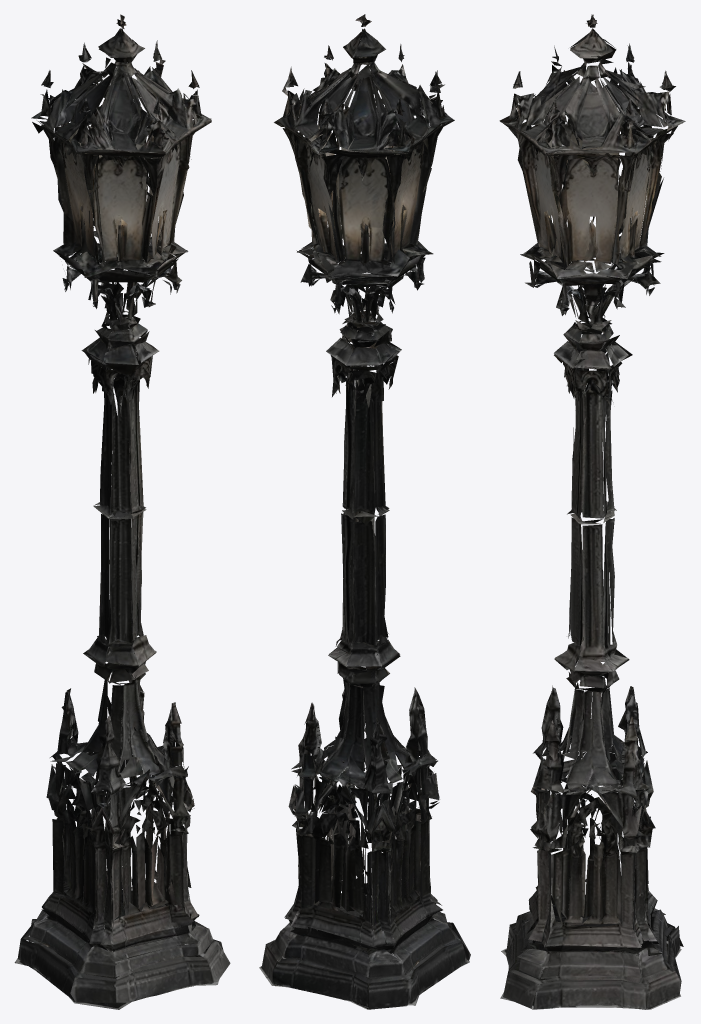
Rendered from Lamppost.fbx.
3 views of the same model, side by side, from view 1: azimuth 30°, elevation 25°; view 2: azimuth 150°, elevation 25°; view 3: azimuth 270°, elevation 25° (orthographic).
Parts seen in each view (by area): view 1: Lamppost; view 2: Lamppost; view 3: Lamppost.
Boxes of the visible parts, x1=… form: Lamppost: x1=14, y1=14, x2=230, y2=1009; Lamppost: x1=259, y1=14, x2=470, y2=1009; Lamppost: x1=499, y1=14, x2=685, y2=1009.
Bounding box in the file's own units: 17.29 × 99.32 × 17.56.
1 material, 1 textured.
